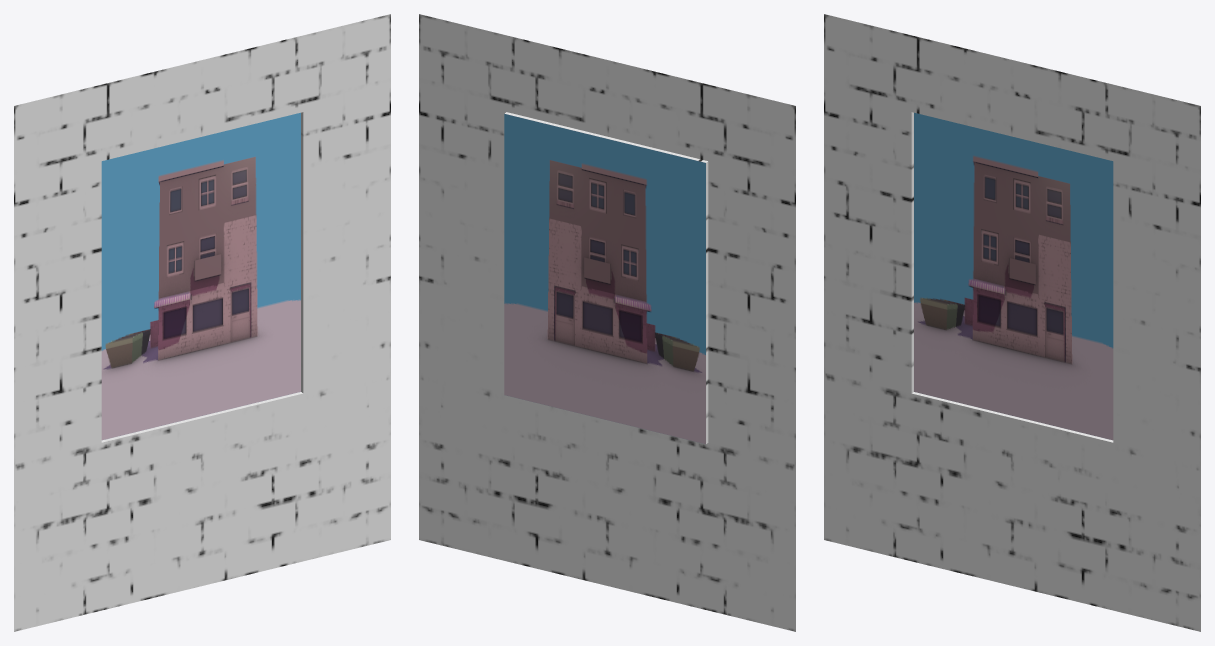
File: Window2.fbx
The picture shows the model from 3 angles, left to right: view 1: azimuth 30°, elevation 25°; view 2: azimuth 150°, elevation 25°; view 3: azimuth 330°, elevation 25°; orthographic projection.
Parts seen in each view (by area): view 1: Plane; view 2: Plane; view 3: Plane.
Part boxes in pixels (x1,y1,x2,y2): Plane: (14, 14, 390, 631); Plane: (419, 14, 795, 631); Plane: (824, 14, 1200, 631).
Size of the model in its own units: 150 by 200 by 1.56.
